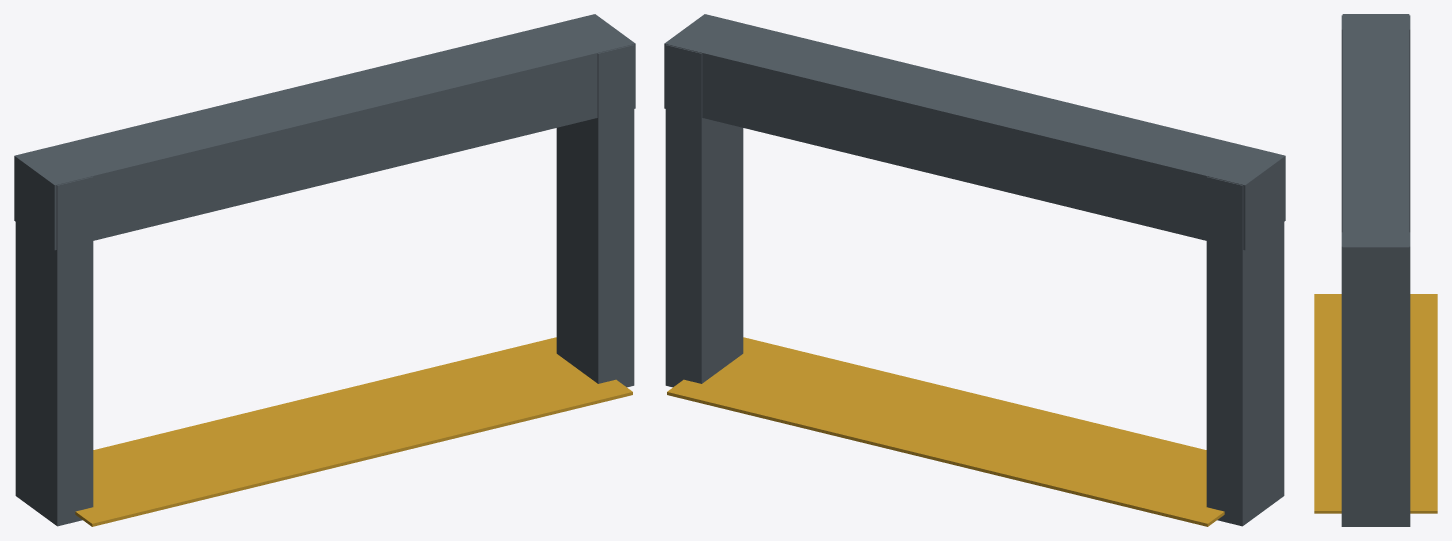
Rendered from door.rollup_half_open.glb.
The picture shows the model from 3 angles, left to right: view 1: azimuth 30°, elevation 25°; view 2: azimuth 150°, elevation 25°; view 3: azimuth 270°, elevation 25°; orthographic projection. The views are drawn at different scales.
Visible parts, largest first — view 1: rollup_header, yellow_sill, left_post, right_post; view 2: rollup_header, yellow_sill, left_post, right_post; view 3: rollup_header, right_post, yellow_sill, left_post.
Boxes of the visible parts, x1,y1,x2,y2 form: rollup_header: [14, 14, 635, 250]; yellow_sill: [75, 337, 632, 526]; left_post: [15, 176, 93, 526]; right_post: [556, 44, 634, 387]; rollup_header: [664, 14, 1285, 250]; yellow_sill: [667, 337, 1224, 526]; left_post: [1206, 176, 1284, 526]; right_post: [665, 44, 743, 387]; rollup_header: [1342, 14, 1409, 300]; right_post: [1341, 232, 1410, 526]; yellow_sill: [1314, 294, 1437, 513]; left_post: [1341, 15, 1410, 232].
Bounding box in the file's own units: 5.8 × 3.26 × 1.3.
